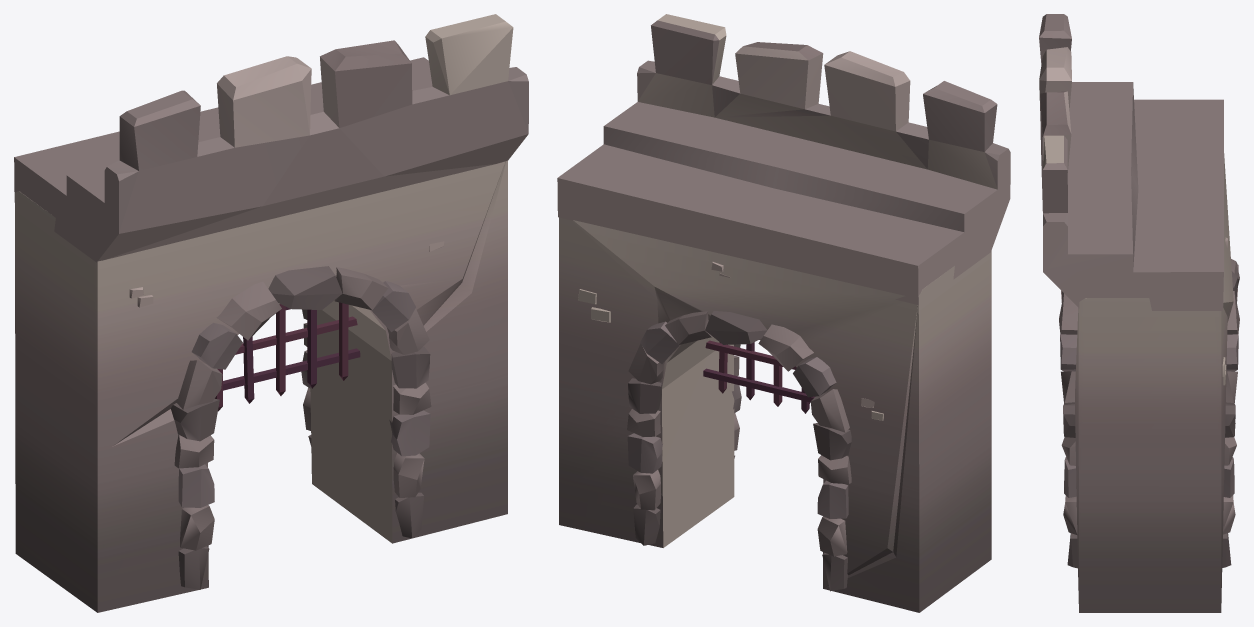
Rendered from Castle_Gate.fbx.
The picture shows the model from 3 angles, left to right: view 1: azimuth 30°, elevation 25°; view 2: azimuth 150°, elevation 25°; view 3: azimuth 270°, elevation 25°; orthographic projection. The views are drawn at different scales.
Visible parts, largest first — view 1: Castle_Gate; view 2: Castle_Gate; view 3: Castle_Gate.
Boxes of the visible parts, x1=… form: Castle_Gate: x1=14, y1=14, x2=528, y2=612; Castle_Gate: x1=557, y1=14, x2=1010, y2=612; Castle_Gate: x1=1039, y1=14, x2=1239, y2=612.
Bounding box in the file's own units: 1.84 × 2.23 × 0.9051.
